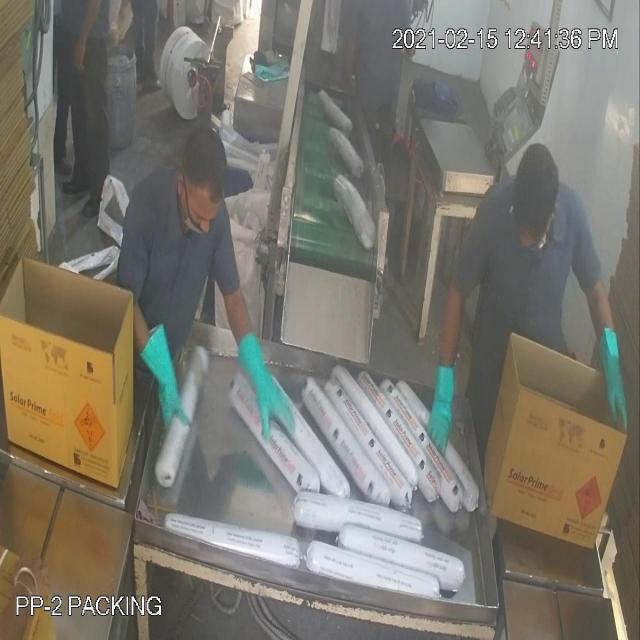Gloves: (29, 42, 614, 406)
